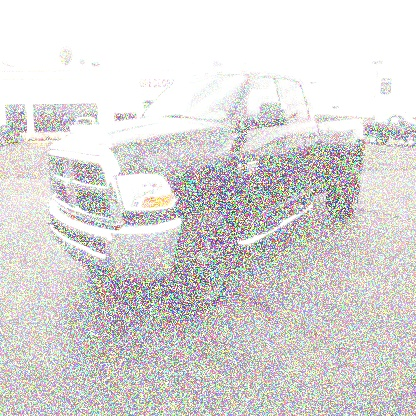Vehicle: (38, 50, 374, 313)
